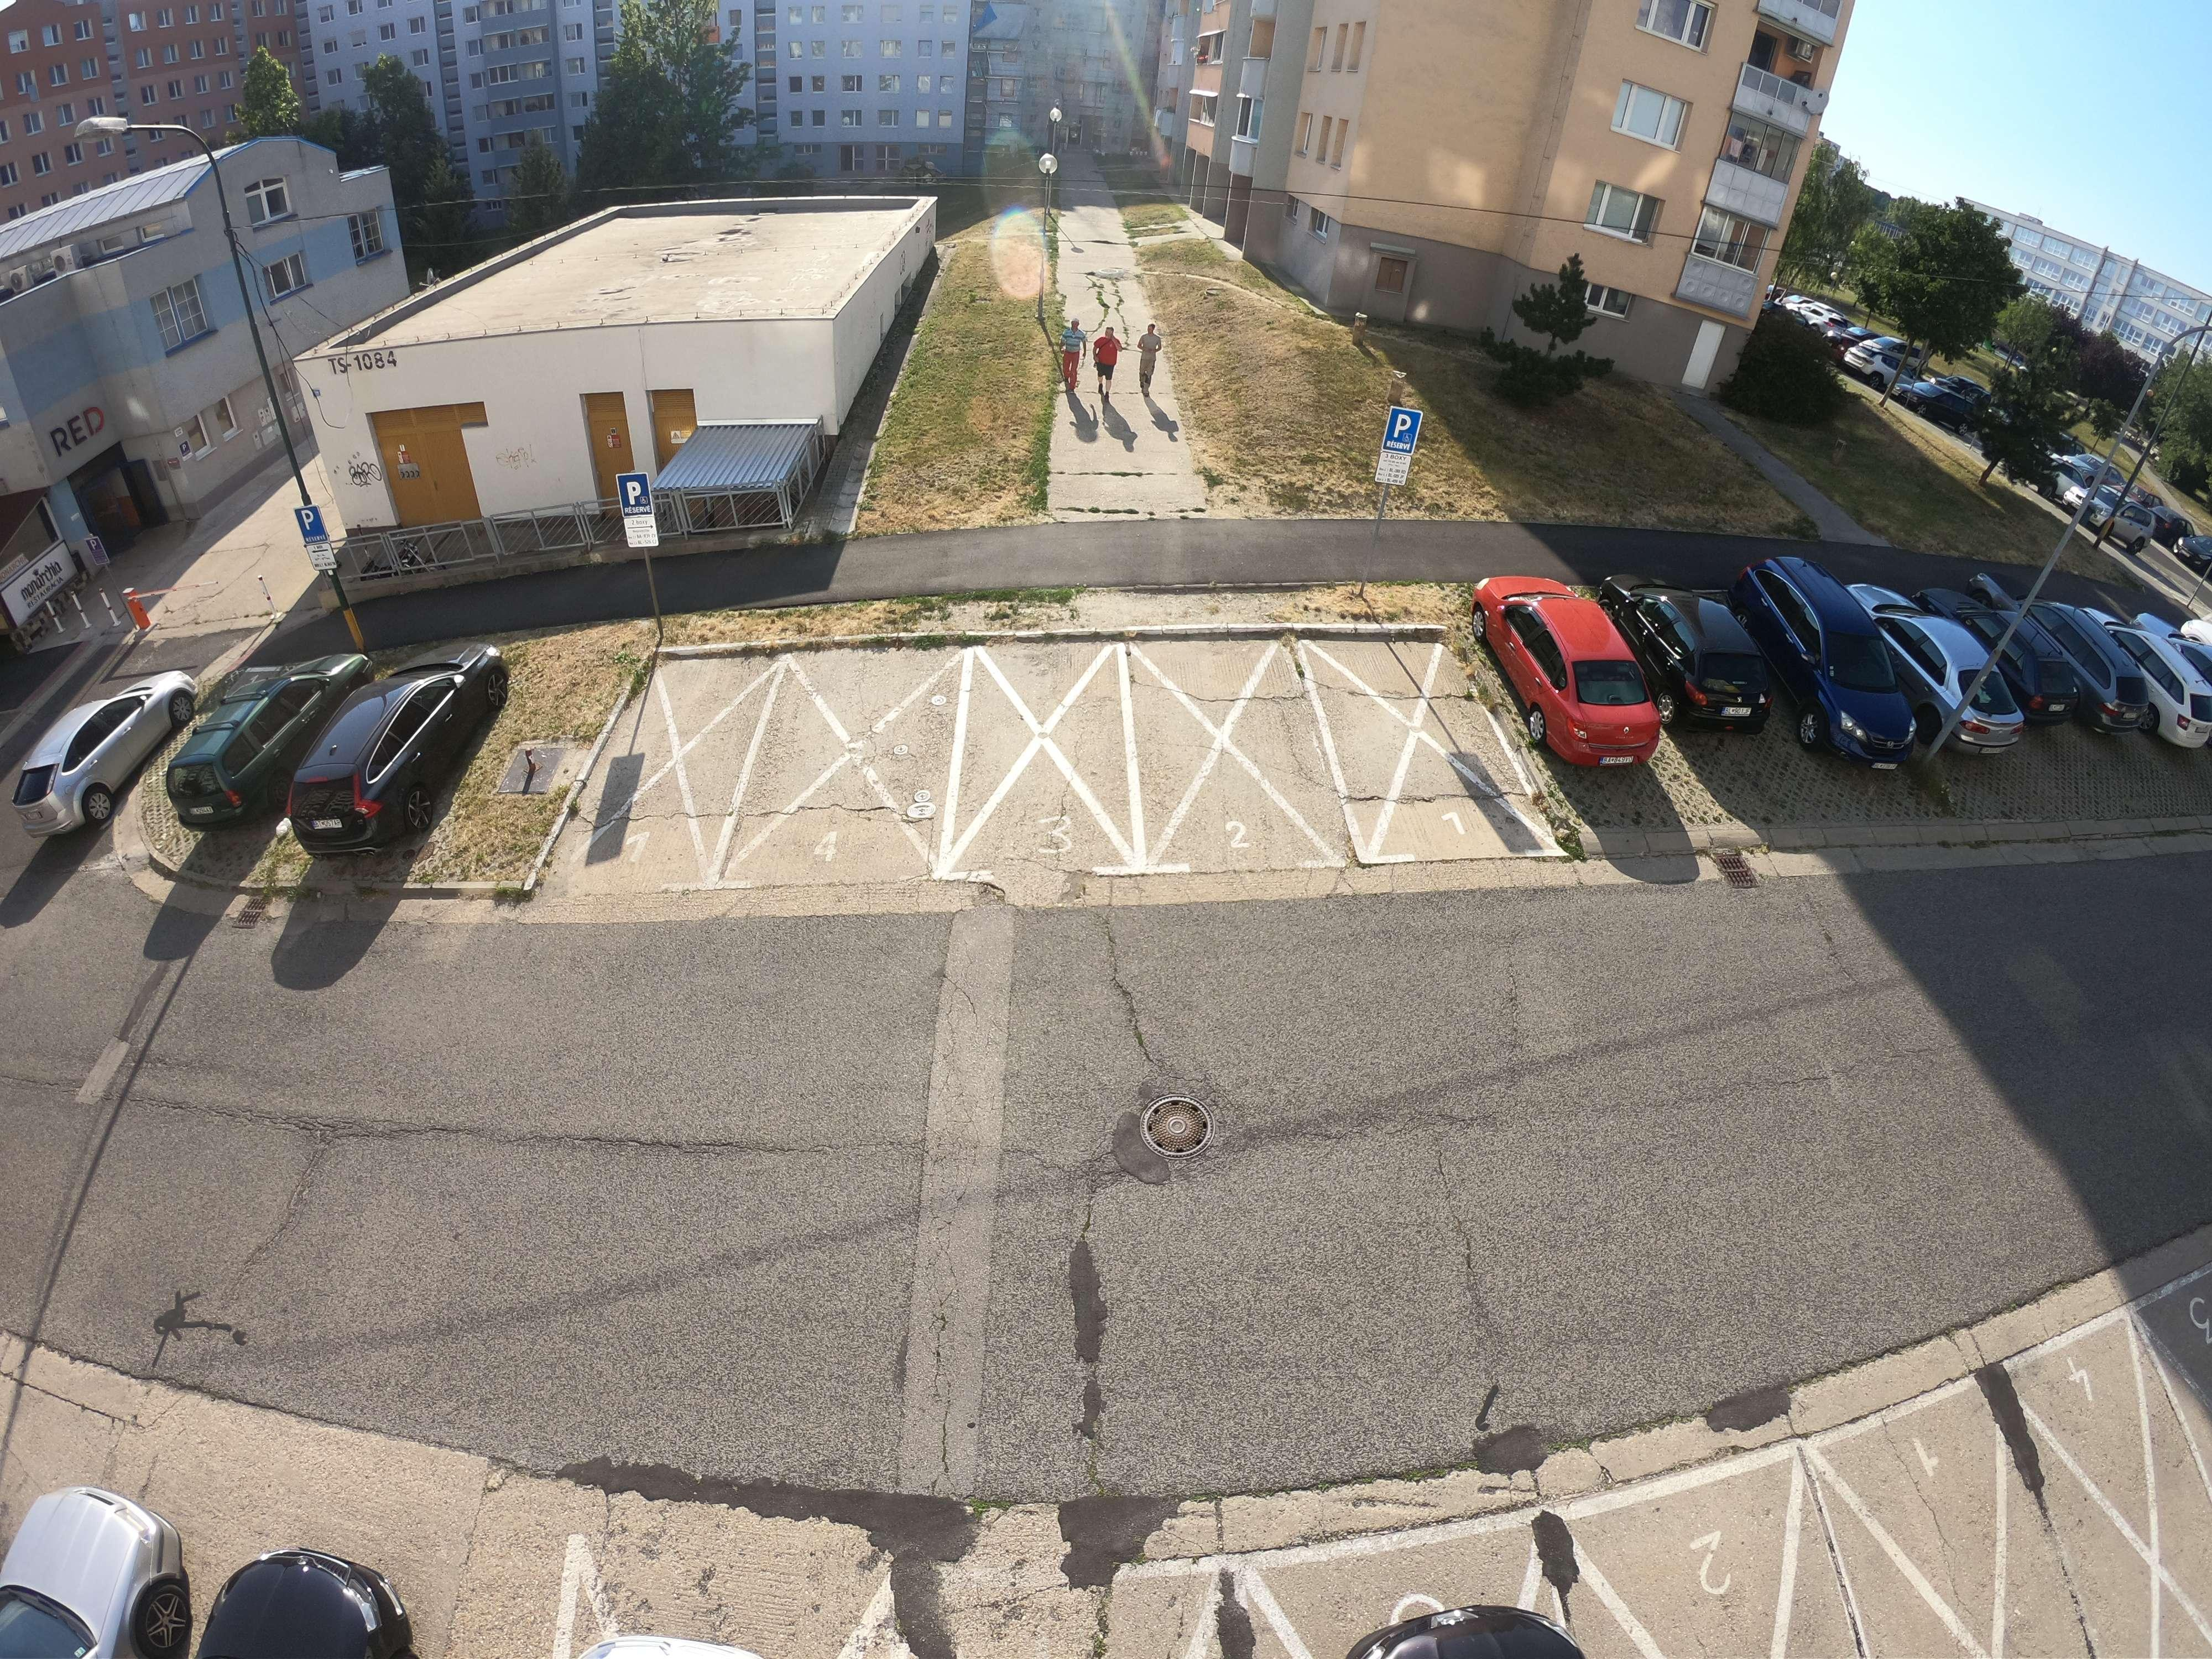empty: (1472, 561, 1670, 793), (1731, 552, 1937, 769), (293, 653, 493, 850), (2, 676, 176, 897), (167, 666, 357, 840), (185, 1532, 423, 1659), (0, 1486, 171, 1659), (1886, 601, 2048, 755), (1629, 580, 1777, 730), (1942, 603, 2095, 748), (2071, 613, 2212, 765)
occupied: (2071, 1427, 2212, 1659), (1874, 1495, 2033, 1659), (629, 702, 770, 882), (1160, 657, 1299, 833), (963, 662, 1101, 835), (791, 681, 925, 849), (1346, 685, 1474, 838)
